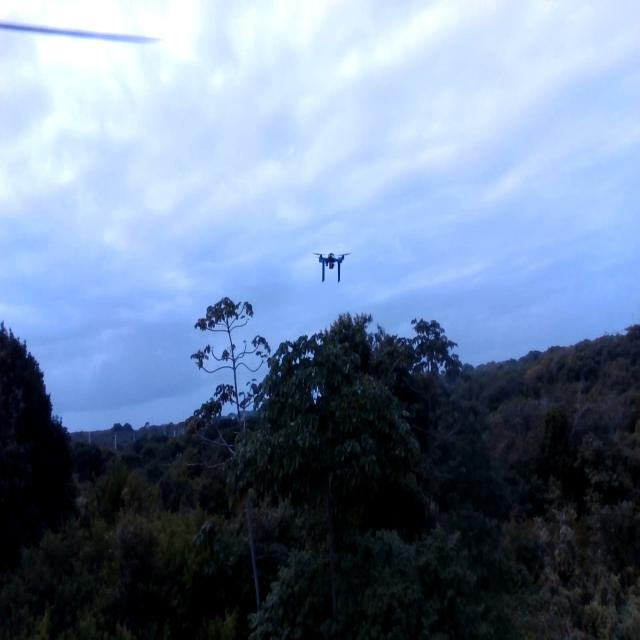-uav-: (308, 233, 358, 298)
